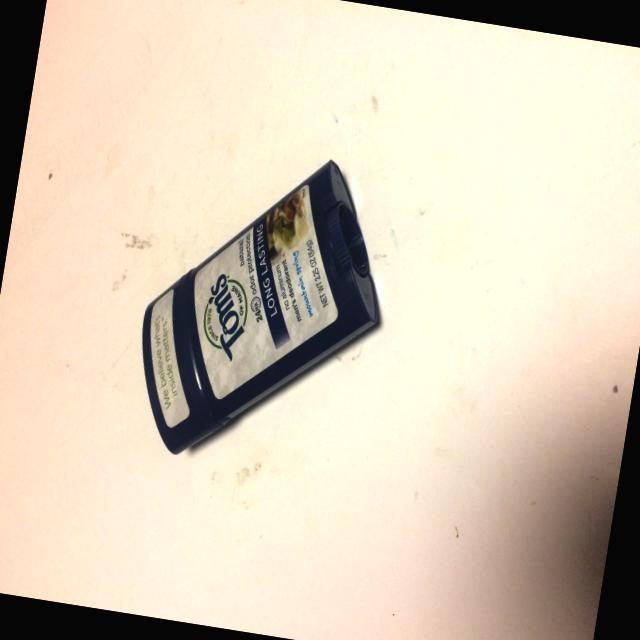Plastic: (113, 113, 409, 485)
